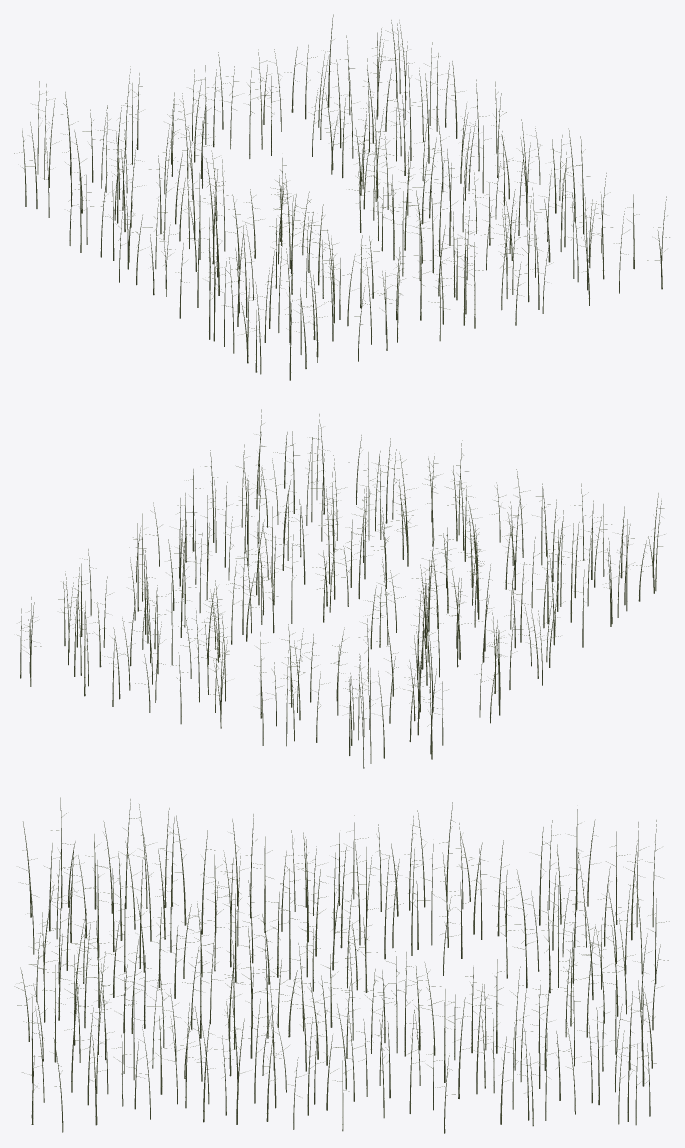
File: bamboo_culms_4.glb
3 renders of one model, top to bottom at view 1: azimuth 30°, elevation 25°; view 2: azimuth 150°, elevation 25°; view 3: azimuth 270°, elevation 25°, orthographic. The views are drawn at different scales.
Visible parts, largest first — view 1: bamboo_culms_40, bamboo_culms_41, bamboo_culms_42, bamboo_culms_43; view 2: bamboo_culms_40, bamboo_culms_42, bamboo_culms_43, bamboo_culms_41; view 3: bamboo_culms_40, bamboo_culms_41, bamboo_culms_42, bamboo_culms_43.
Part boxes in pixels (bbox=[...]): bamboo_culms_40: bbox=[14, 14, 464, 245]; bamboo_culms_41: bbox=[75, 62, 540, 295]; bamboo_culms_42: bbox=[160, 119, 590, 346]; bamboo_culms_43: bbox=[220, 173, 669, 380]; bamboo_culms_40: bbox=[17, 563, 499, 768]; bamboo_culms_42: bbox=[145, 450, 621, 662]; bamboo_culms_43: bbox=[241, 409, 664, 611]; bamboo_culms_41: bbox=[82, 513, 560, 717]; bamboo_culms_40: bbox=[457, 809, 669, 1126]; bamboo_culms_41: bbox=[296, 802, 490, 1133]; bamboo_culms_42: bbox=[141, 808, 322, 1129]; bamboo_culms_43: bbox=[14, 797, 165, 1132].
Size of the model in its own units: 81.13 by 17.86 by 93.92.
Materials: 1 (1 with a texture image).
